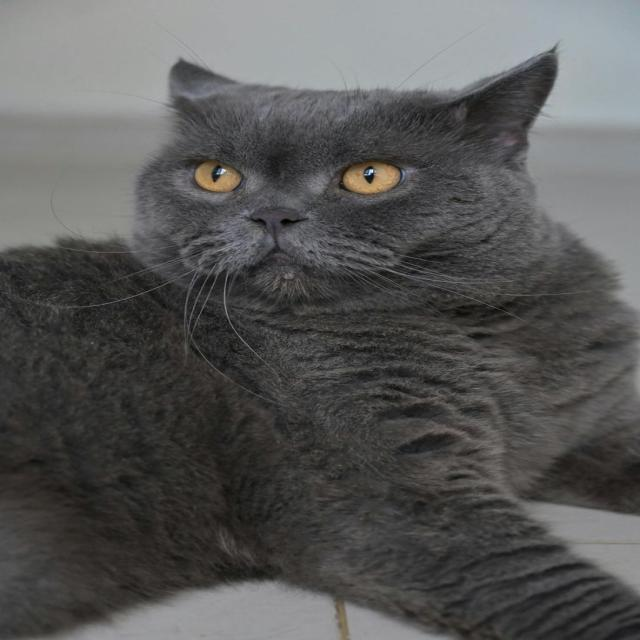british shorthair: (50, 35, 640, 582)
